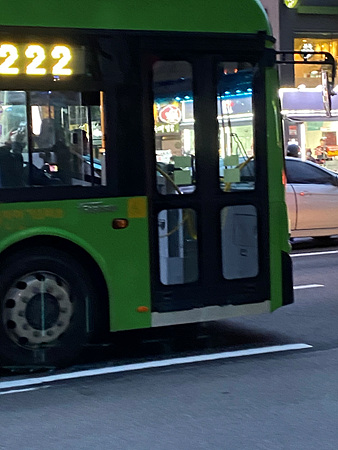entrance: (139, 40, 273, 306)
